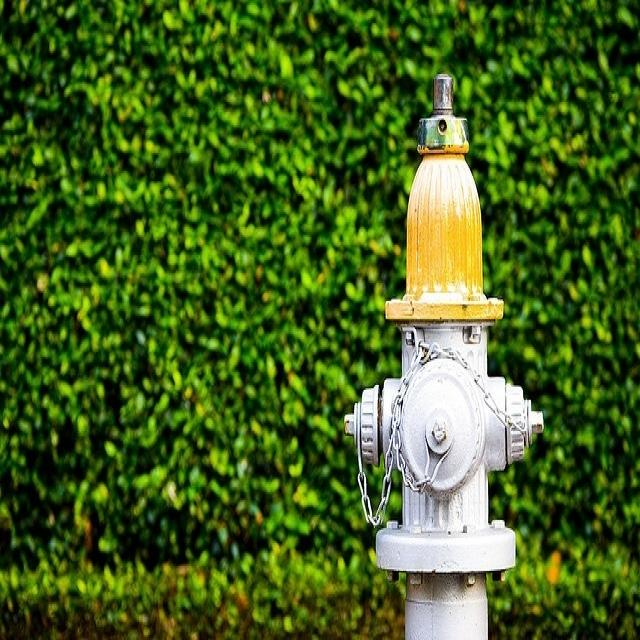fire_hydrant: (371, 86, 502, 624)
